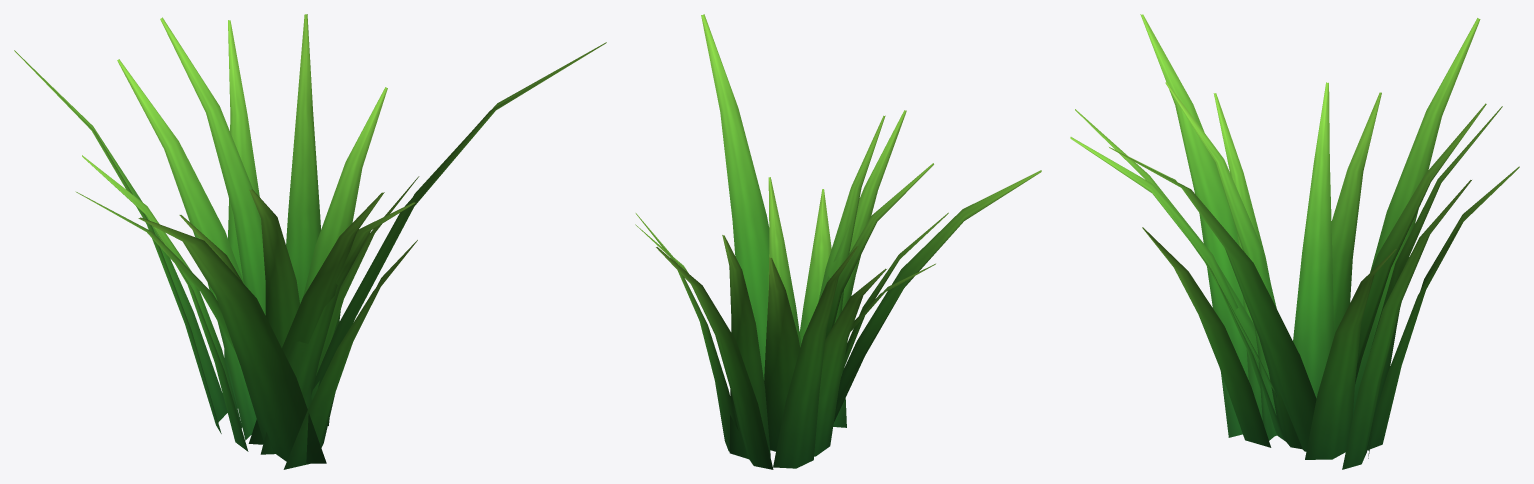
The model's file is Grass_Clump_Medium_02.fbx.
The picture shows the model from 3 angles, left to right: view 1: azimuth 30°, elevation 25°; view 2: azimuth 150°, elevation 25°; view 3: azimuth 270°, elevation 25°; orthographic projection. The views are drawn at different scales.
Parts seen in each view (by area): view 1: Grass_Clump_Medium_02; view 2: Grass_Clump_Medium_02; view 3: Grass_Clump_Medium_02.
Boxes of the visible parts, x1,y1,x2,y2 form: Grass_Clump_Medium_02: (14, 14, 606, 469); Grass_Clump_Medium_02: (635, 14, 1041, 469); Grass_Clump_Medium_02: (1070, 14, 1519, 469).
Size of the model in its own units: 0.7615 by 0.6753 by 0.6975.
1 material, 1 textured.
